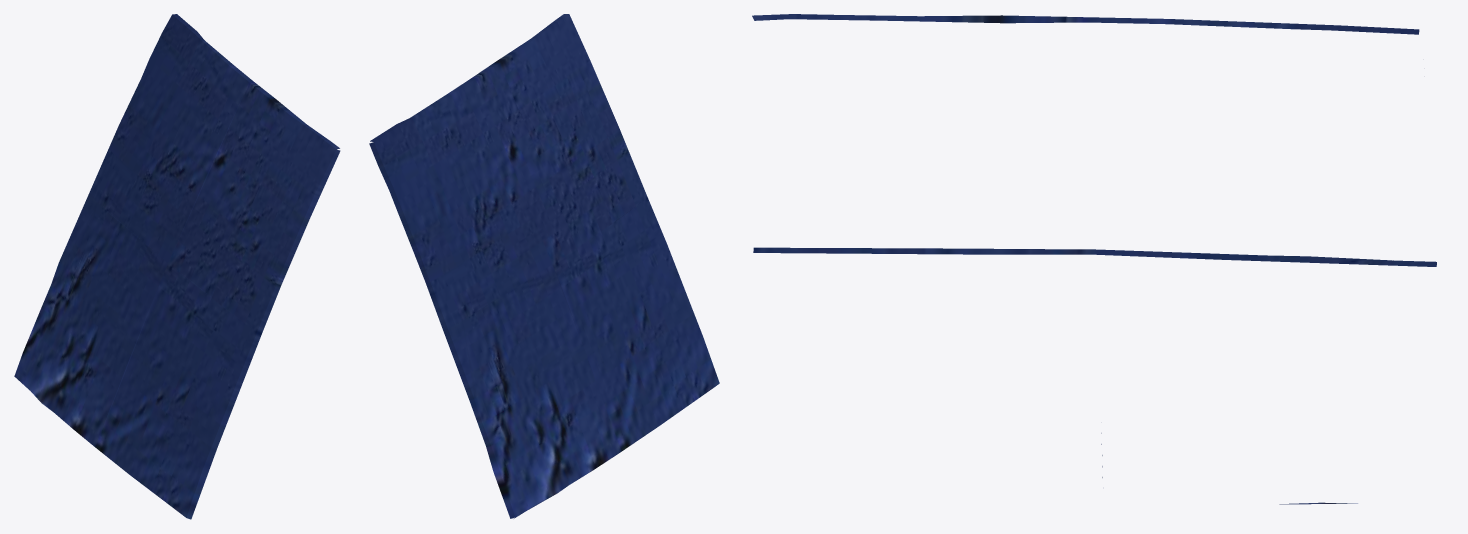
3 views of the same model, side by side, from view 1: azimuth 30°, elevation 25°; view 2: azimuth 150°, elevation 25°; view 3: azimuth 270°, elevation 25° (orthographic). The views are drawn at different scales.
Size of the model in its own units: 302716 by 571419 by 585033.
Materials: 1 (1 with a texture image).
